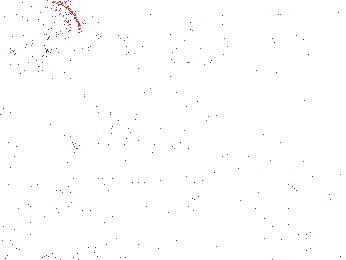moon jellyfish: (52, 47, 158, 161), (152, 32, 244, 124), (114, 1, 227, 65), (23, 3, 83, 76), (286, 7, 346, 67)
